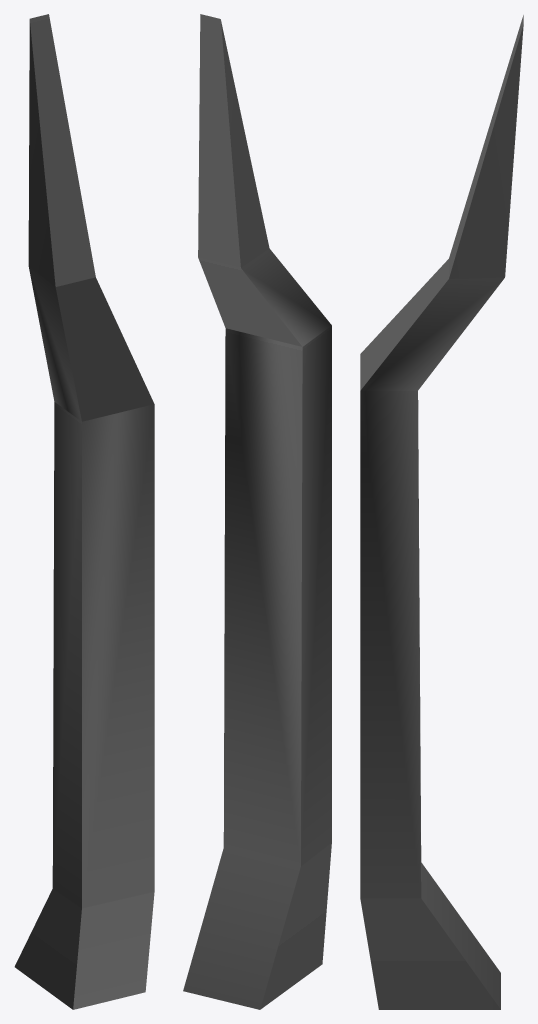
File: stat_arm1.glb
The picture shows the model from 3 angles, left to right: view 1: azimuth 30°, elevation 25°; view 2: azimuth 150°, elevation 25°; view 3: azimuth 270°, elevation 25°; orthographic projection. The views are drawn at different scales.
Parts seen in each view (by area): view 1: group_13; view 2: group_13; view 3: group_13.
Boxes of the visible parts, x1,y1,x2,y2 form: group_13: [14, 14, 154, 1009]; group_13: [183, 14, 331, 1009]; group_13: [360, 15, 523, 1009].
Bounding box in the file's own units: 2498 × 30734 × 4681.
Materials: 1 (1 with a texture image).
